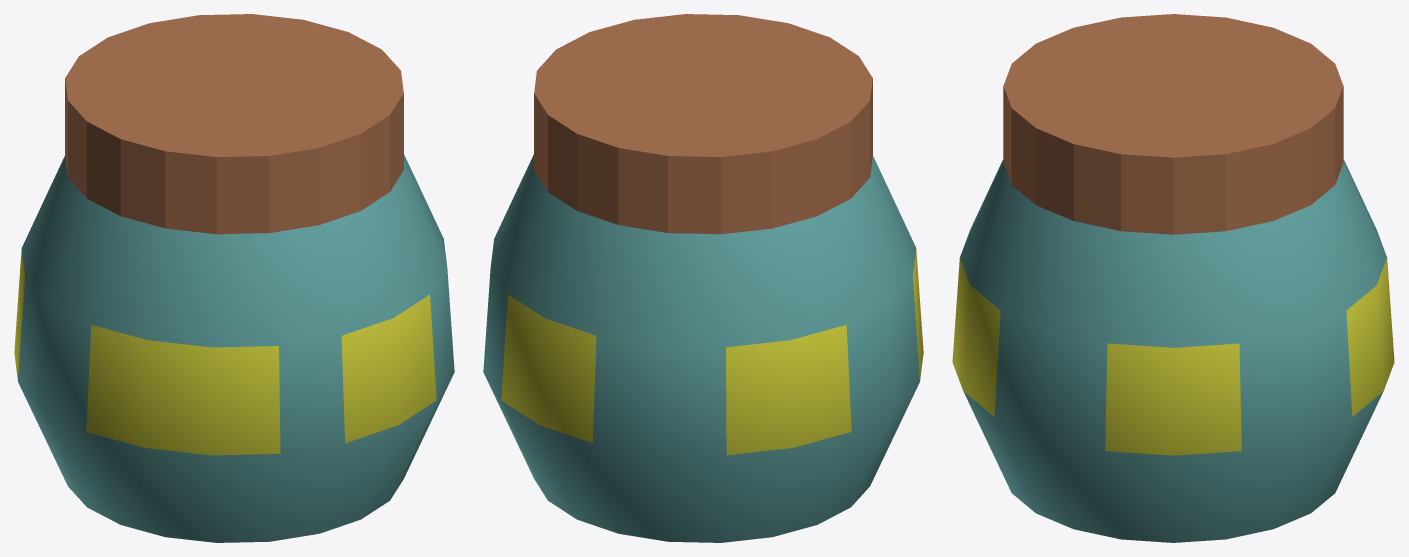
File: vissenvoer.fbx
3 views of the same model, side by side, from view 1: azimuth 30°, elevation 25°; view 2: azimuth 150°, elevation 25°; view 3: azimuth 270°, elevation 25° (orthographic).
Parts seen in each view (by area): view 1: vissenvoer; view 2: vissenvoer; view 3: vissenvoer.
Boxes of the visible parts, x1,y1,x2,y2 form: vissenvoer: (14, 14, 454, 542); vissenvoer: (483, 14, 923, 542); vissenvoer: (952, 14, 1394, 542).
Bounding box in the file's own units: 2.6 × 2.5 × 2.6.
